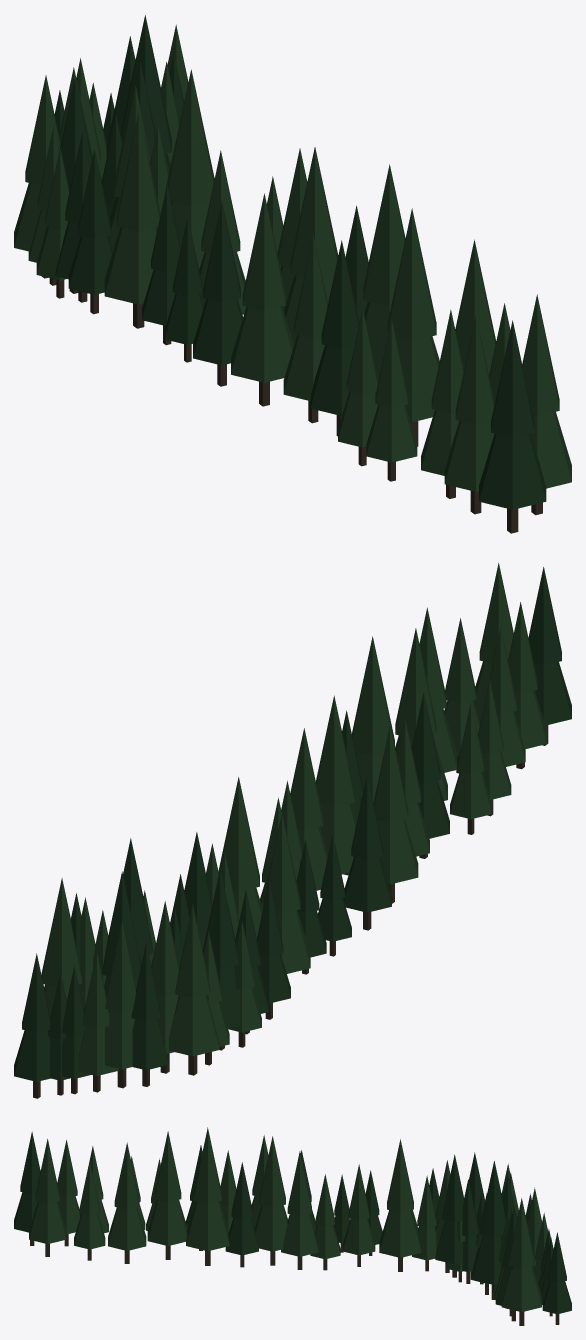
Rendered from forest_edge_19.glb.
3 renders of one model, top to bottom at view 1: azimuth 30°, elevation 25°; view 2: azimuth 150°, elevation 25°; view 3: azimuth 270°, elevation 25°, orthographic. The views are drawn at different scales.
Parts seen in each view (by area): view 1: chunk_0_0; view 2: chunk_0_0; view 3: chunk_0_0.
Boxes of the visible parts, x1,y1,x2,y2 form: chunk_0_0: (14, 15, 571, 533); chunk_0_0: (14, 563, 571, 1098); chunk_0_0: (14, 1127, 571, 1325).
Bounding box in the file's own units: 25.32 × 35.03 × 99.88.
